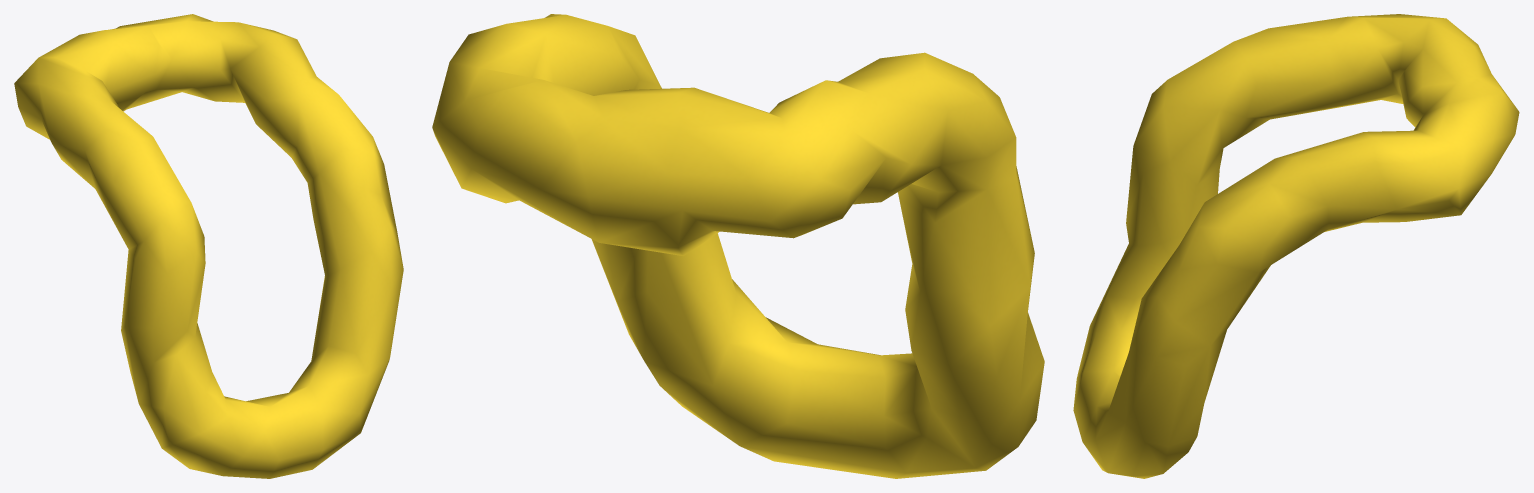
The model's file is gold chain.glb.
3 renders of one model, left to right at view 1: azimuth 30°, elevation 25°; view 2: azimuth 150°, elevation 25°; view 3: azimuth 270°, elevation 25°, orthographic. The views are drawn at different scales.
Parts seen in each view (by area): view 1: chain_gold.001; view 2: chain_gold.001; view 3: chain_gold.001.
Boxes of the visible parts, <box> form: chain_gold.001: <box>14,14,403,478</box>; chain_gold.001: <box>432,14,1044,478</box>; chain_gold.001: <box>1073,14,1519,478</box>.
Size of the model in its own units: 0.0867 by 0.1021 by 0.1044.
1 material, 1 textured.
